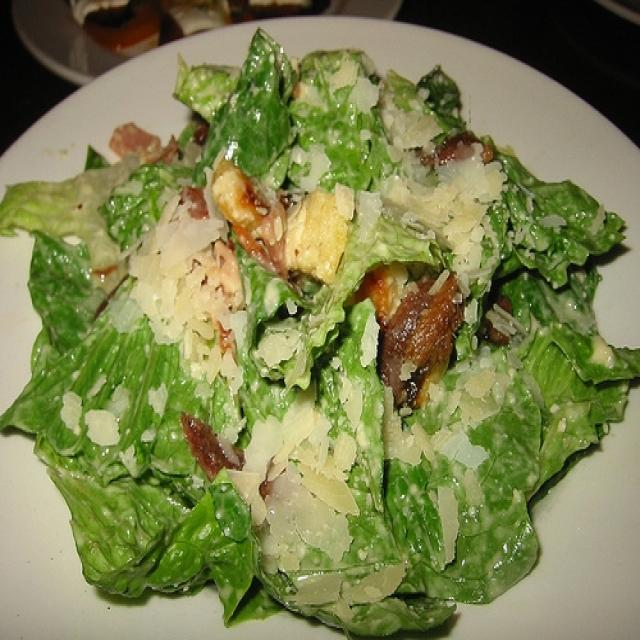蔬菜料理: (9, 16, 630, 622)
